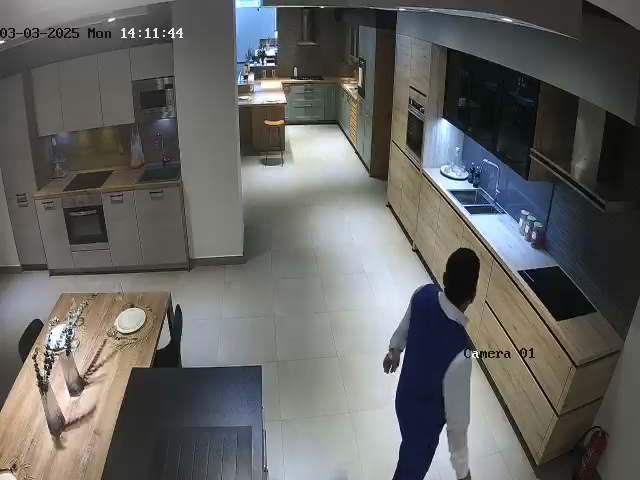employee: (382, 247, 480, 480)
